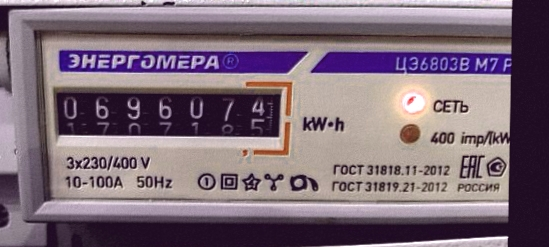0: (61, 95, 80, 120), (188, 94, 205, 120)
4: (250, 94, 266, 116)
5: (250, 117, 266, 137)
6: (156, 93, 174, 121), (93, 94, 111, 119)
7: (220, 95, 236, 122)
9: (125, 94, 141, 120)
screen: (42, 74, 297, 159)
